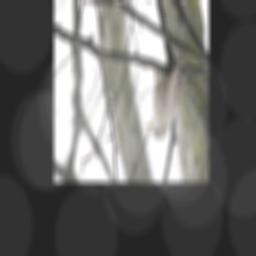Cuckoo: (145, 61, 181, 140)
